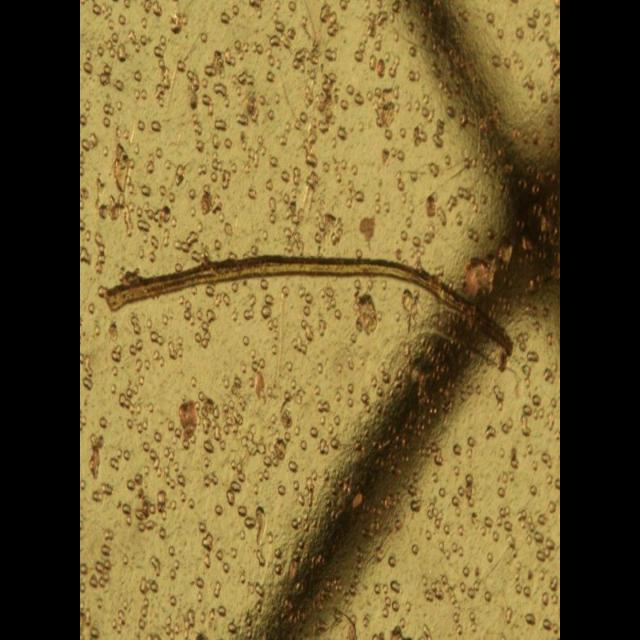Fibre: (102, 248, 518, 384)
